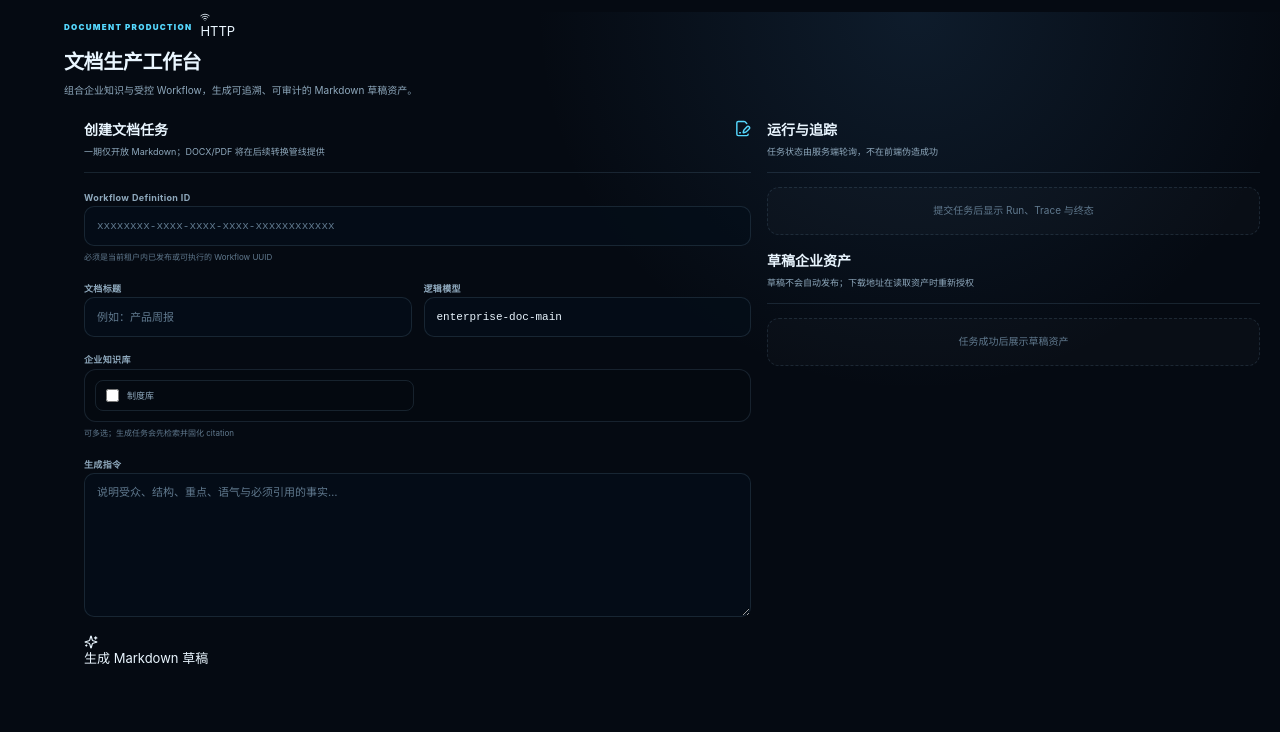
Test: DocumentPage › creates, polls to terminal and displays the draft asset boundary
Expected: the text "制度库" is shown, [127,388,154,402]
Type "workflow-1" into the field labelled "Workflow Definition ID".
click(418, 226); type("workflow-1")  # box [84,206,751,246]
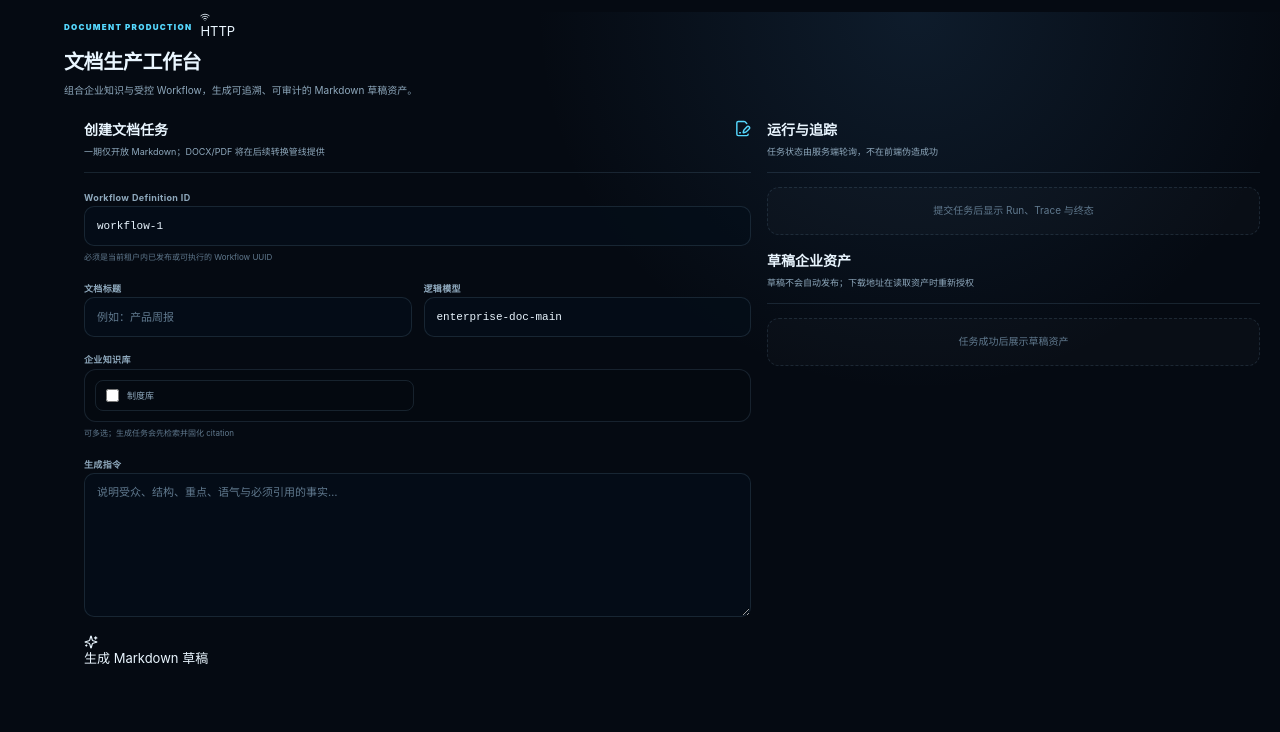
Type "产品周报" into the field labelled "文档标题".
click(248, 317); type("产品周报")  # box [84,297,412,337]
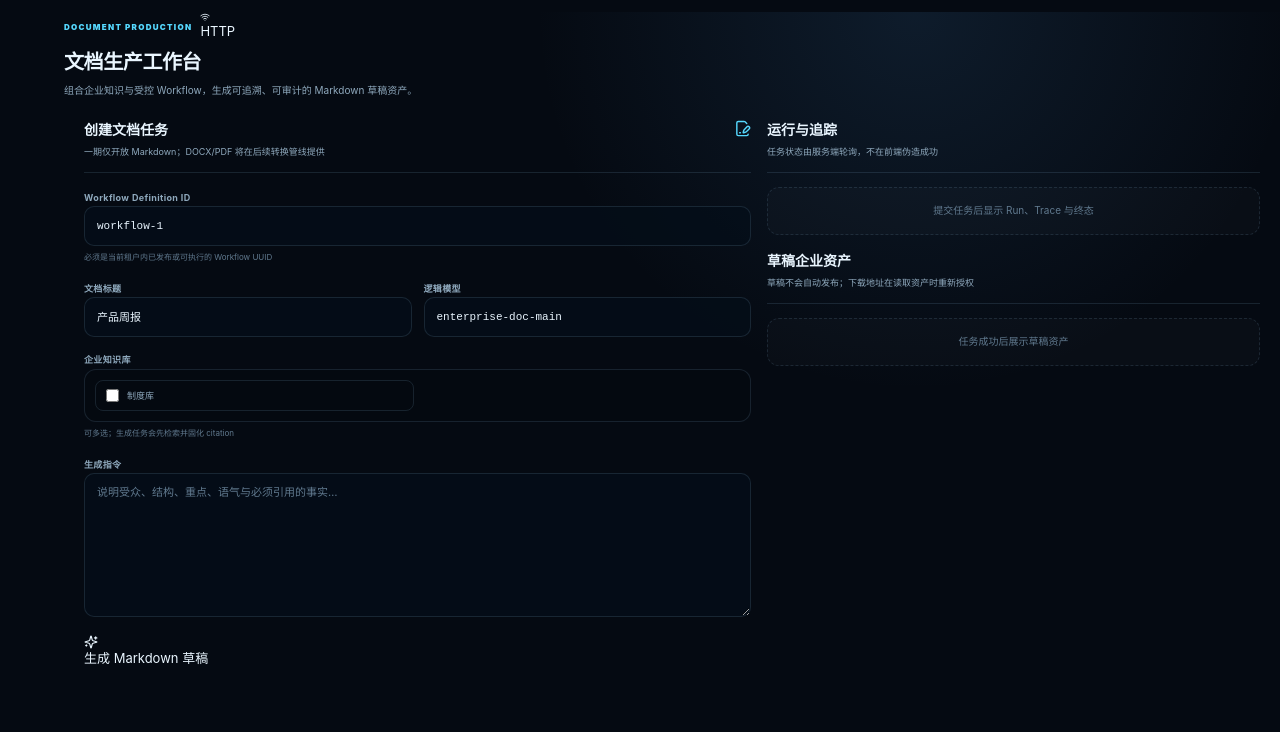
Type "总结本周进展" into the text box labelled "生成指令".
click(418, 545); type("总结本周进展")  # box [84,473,751,617]
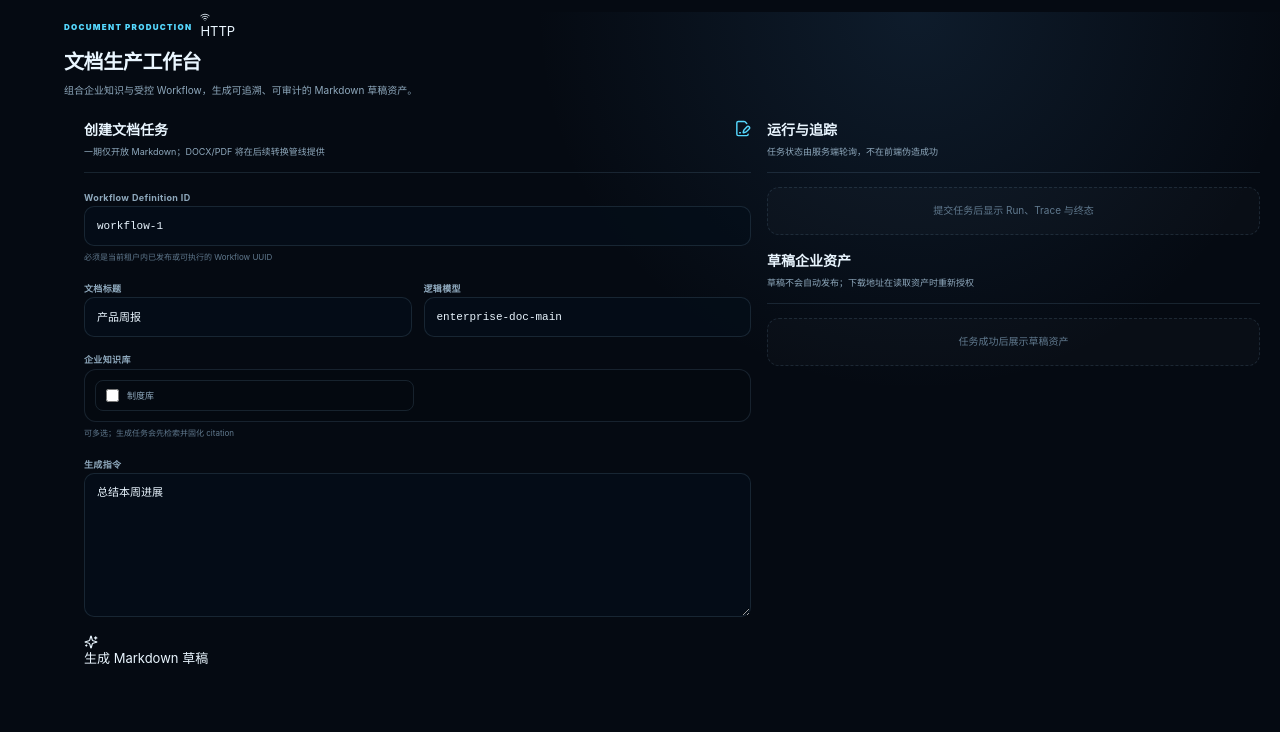
Click the checkbox labelled "制度库".
click(112, 395)  # box [106,389,119,402]
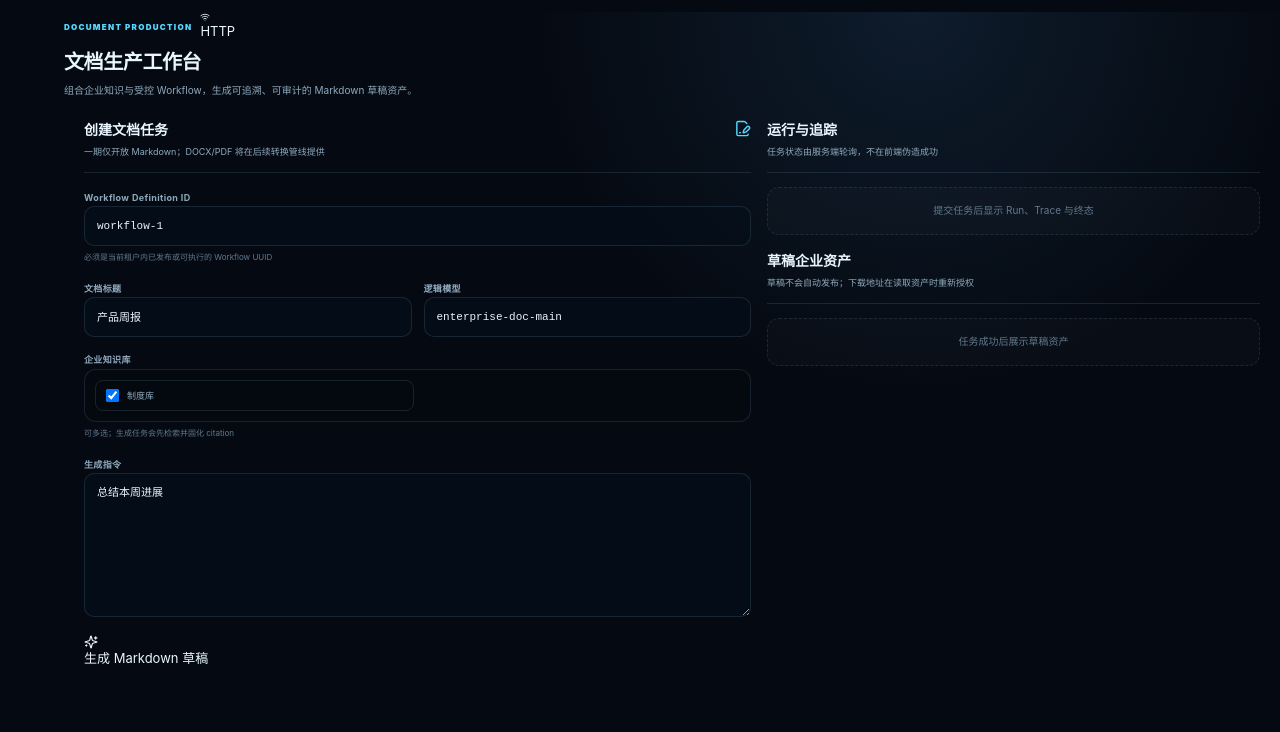
Click the button "生成 Markdown 草稿".
click(146, 651)  # box [84,634,208,668]
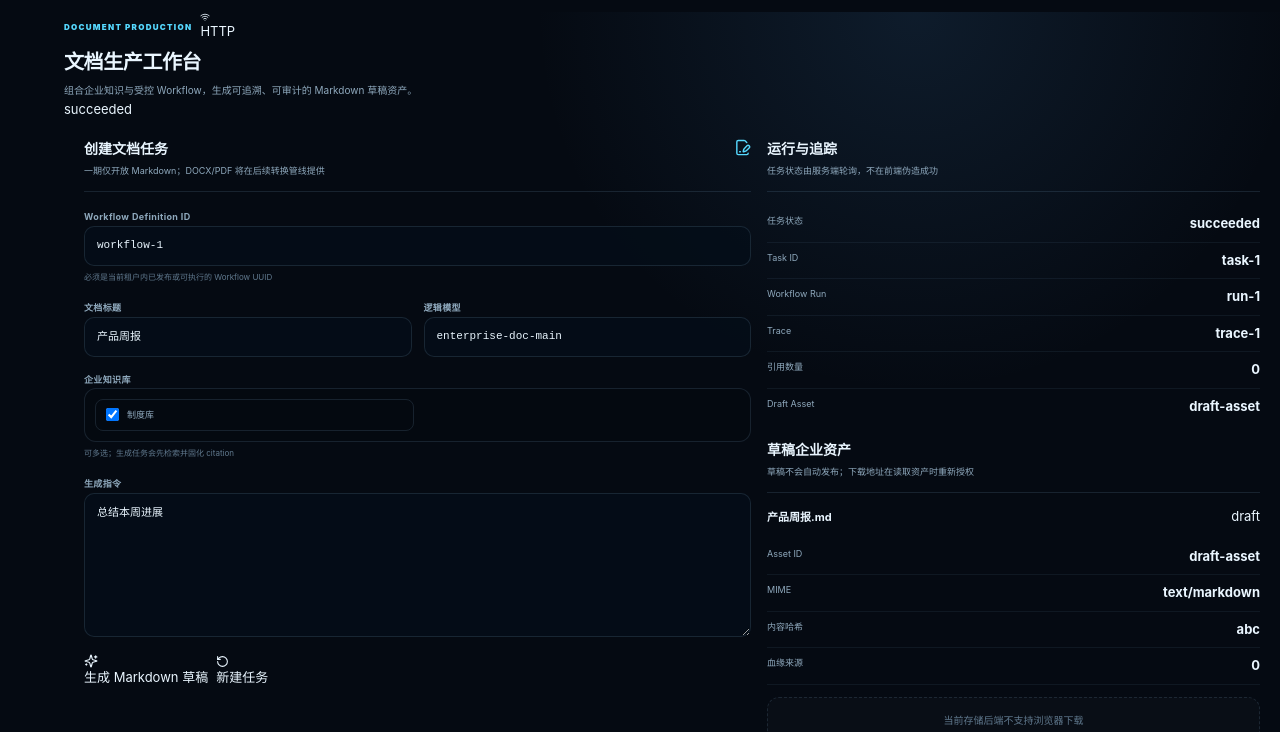
Now the text "产品周报.md" is shown, box [767,508,832,525]
Now the text "当前存储后端不支持浏览器下载" is shown, box [767,696,1260,731]
Now the text "succeeded" below "文档生产工作台" is shown, box [64,100,132,116]
